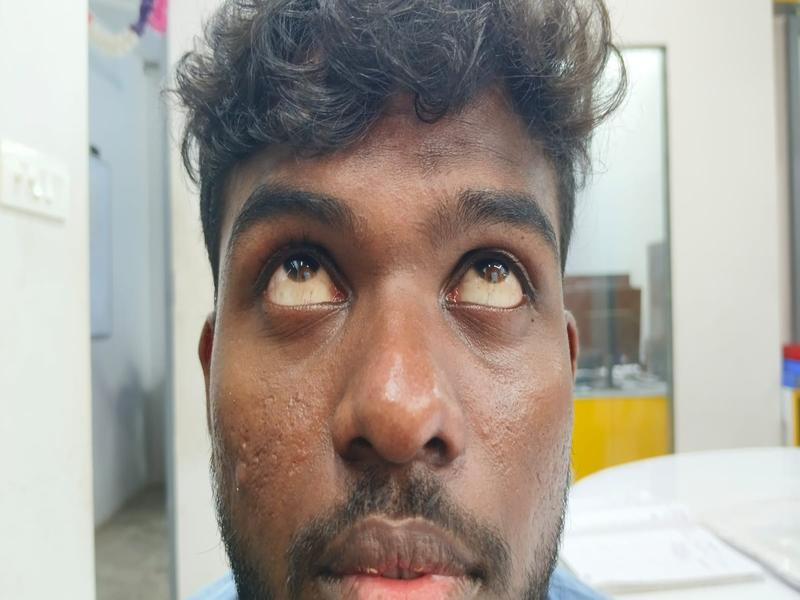EYE UP: (453, 254, 528, 310), (266, 257, 340, 307)
